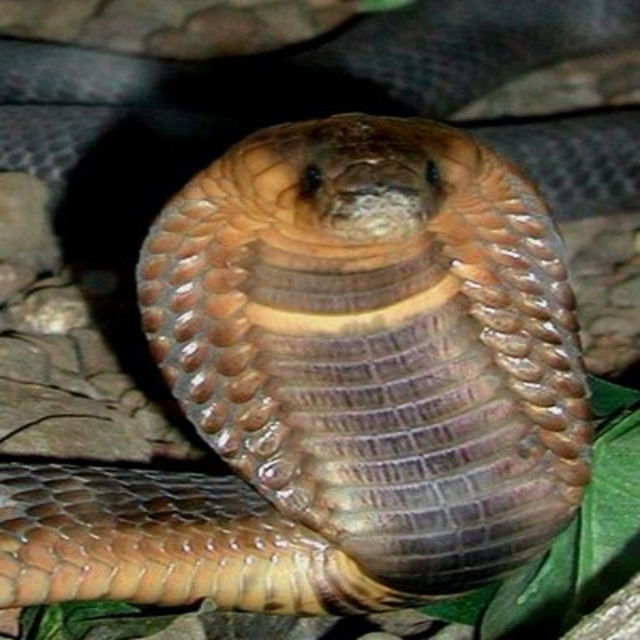Snake: (0, 0, 638, 638)
